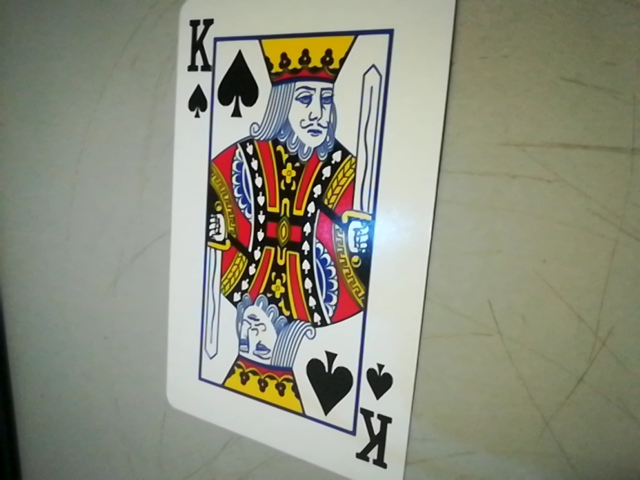ht k: (351, 357, 403, 477)
